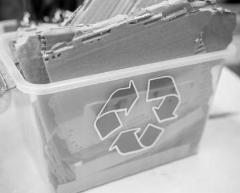paper: (14, 1, 236, 84)
